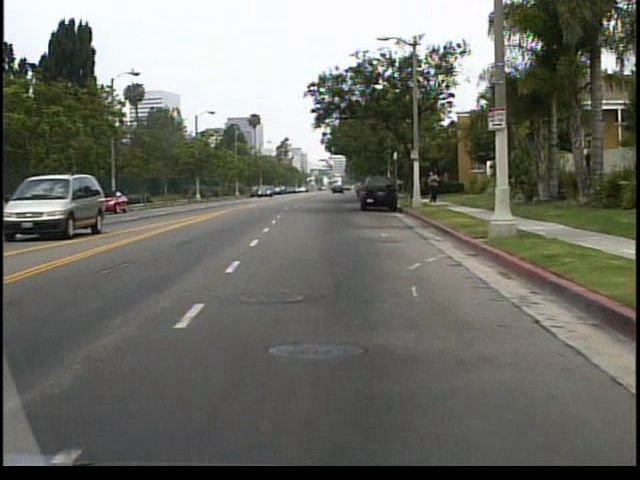person: (426, 169, 441, 206), (429, 170, 442, 205)
